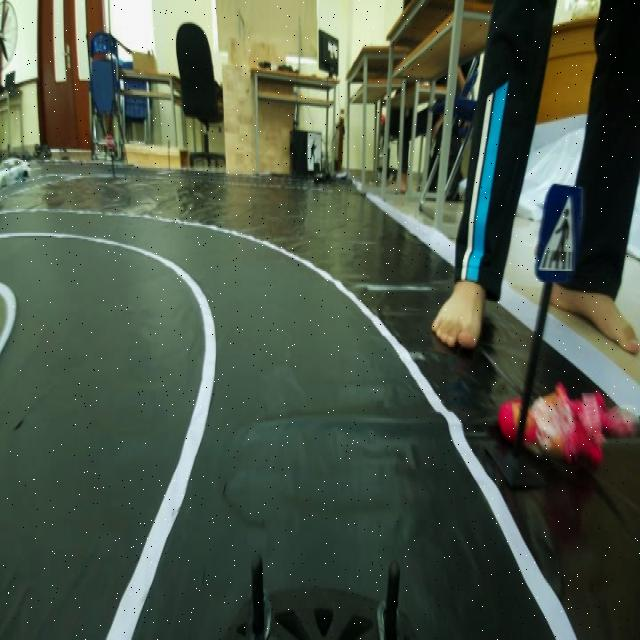crosswalk: (532, 176, 580, 279)
